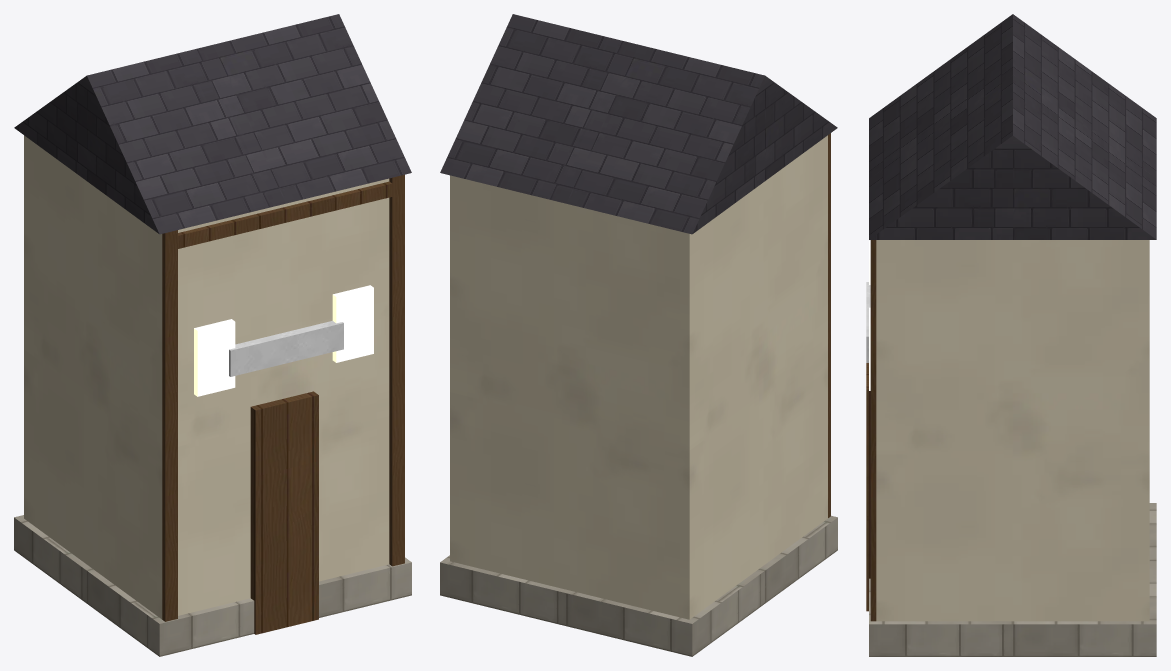
File: category.other.t3.glb
3 renders of one model, left to right at view 1: azimuth 30°, elevation 25°; view 2: azimuth 150°, elevation 25°; view 3: azimuth 270°, elevation 25°, orthographic.
Parts seen in each view (by area): view 1: building.category.other.t3; view 2: building.category.other.t3; view 3: building.category.other.t3.
Part boxes in pixels (bbox=[...]): building.category.other.t3: bbox=[14, 14, 411, 656]; building.category.other.t3: bbox=[440, 14, 837, 656]; building.category.other.t3: bbox=[866, 14, 1156, 656].
Bounding box in the file's own units: 2 × 4 × 2.02.
6 materials, 5 textured.
